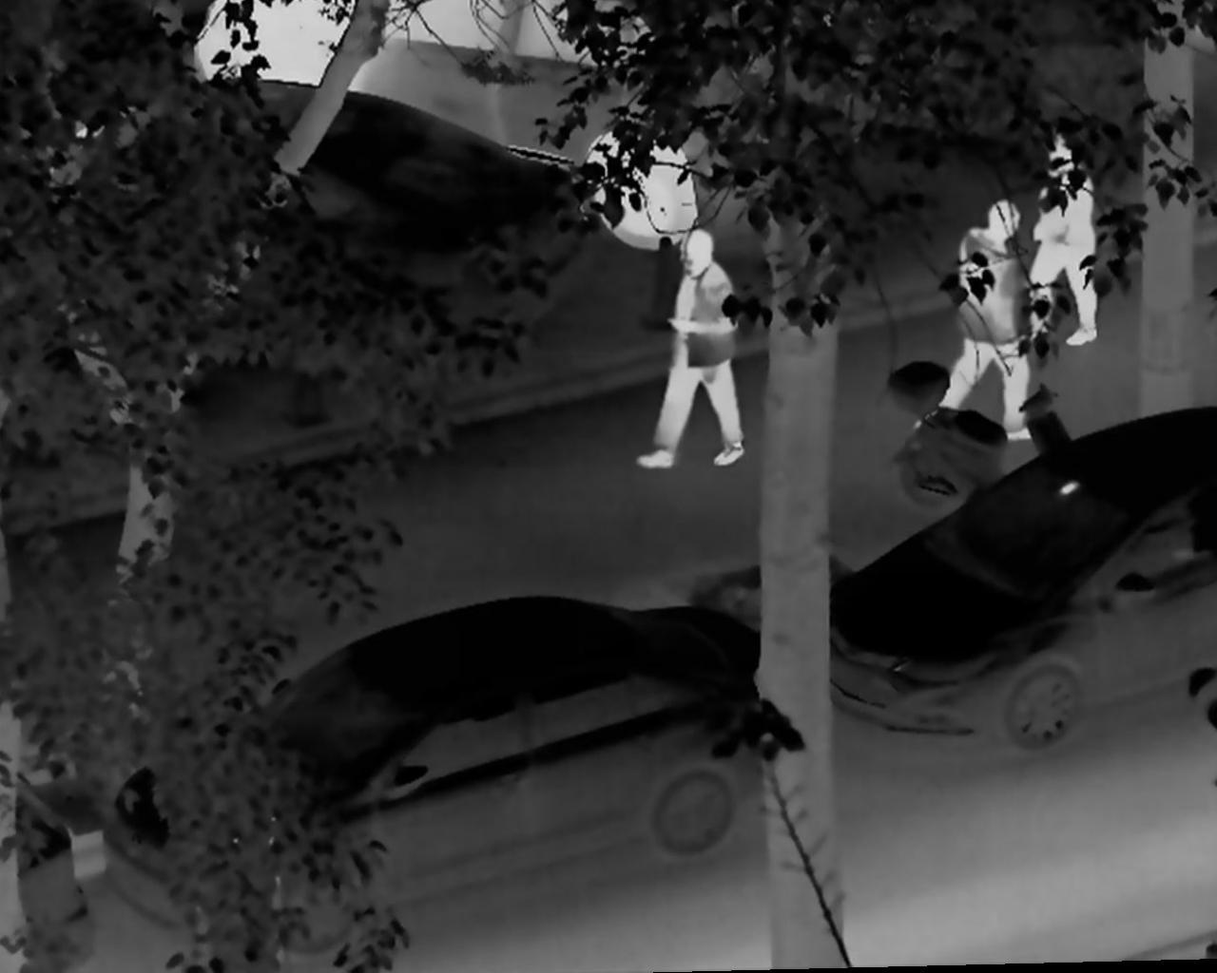person: (915, 198, 1034, 451), (630, 225, 747, 471), (1029, 126, 1103, 353)
